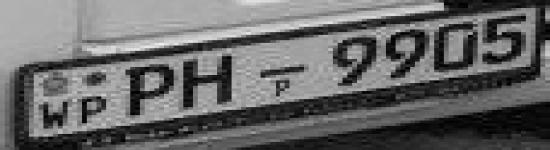-: (327, 35, 381, 88), (257, 61, 310, 80)
5: (479, 14, 528, 66)
9: (430, 21, 480, 73), (383, 29, 429, 81)
H: (180, 51, 237, 111)
P: (123, 62, 180, 118), (76, 94, 114, 126)
W: (38, 99, 78, 129)
